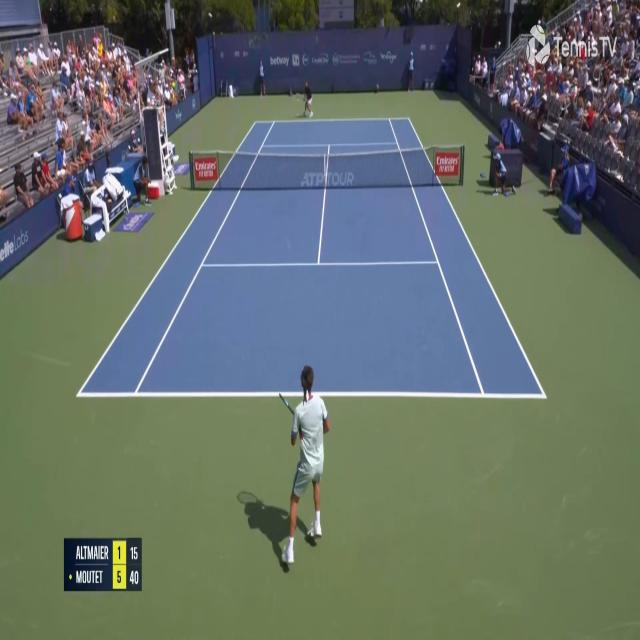tennis-player: (273, 358, 334, 570), (301, 79, 314, 118)
